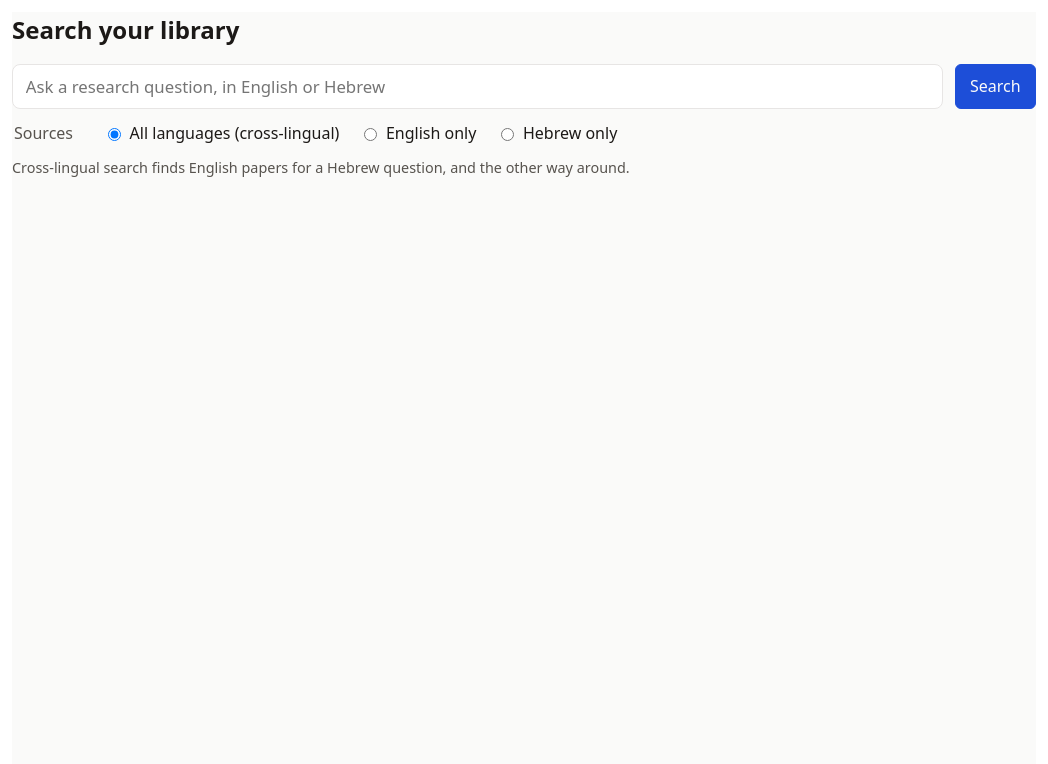
online results › adds an open-access paper to the library with its catalog metadata
Type "sleep" into the search field at [477, 86], box x1=12 y1=64 x2=943 y2=109
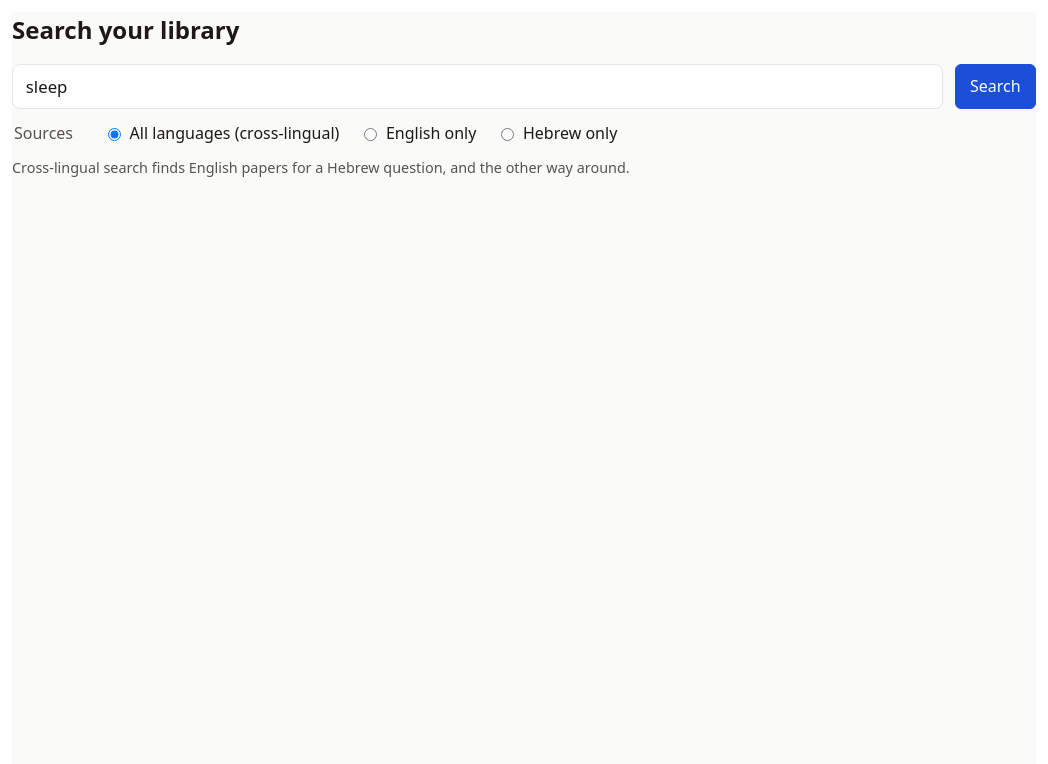
Click the button "Search" at [995, 86], box x1=955 y1=64 x2=1036 y2=109
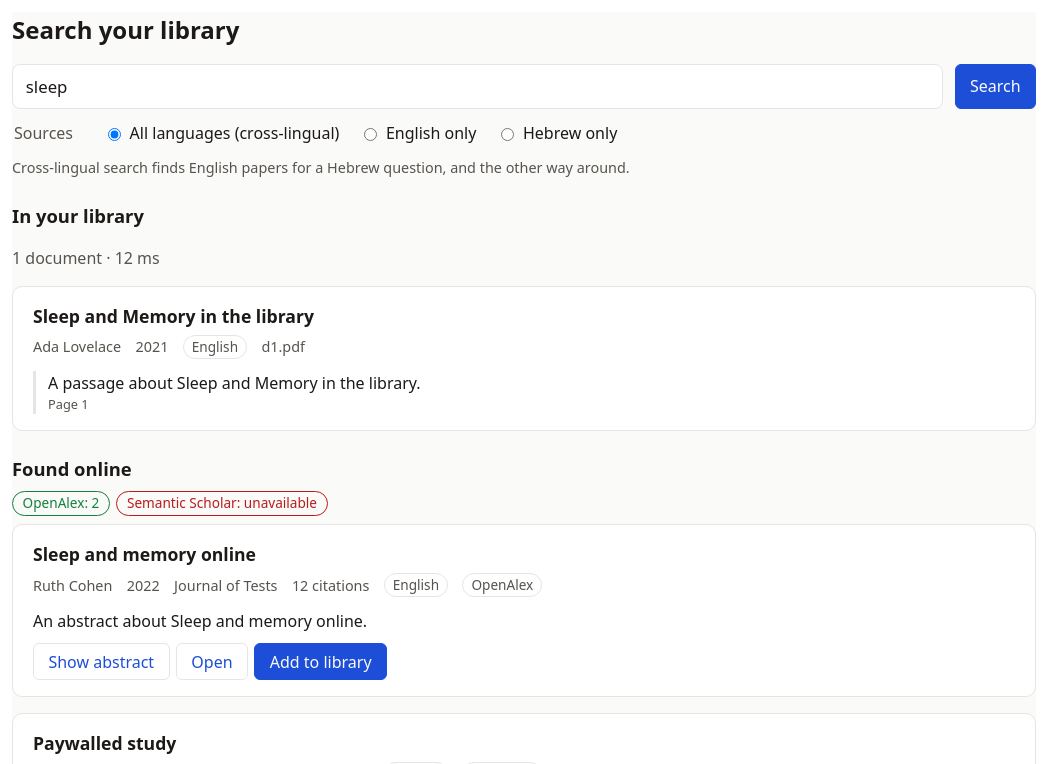
Click the button "Add to library" at [321, 662], box x1=254 y1=643 x2=387 y2=680
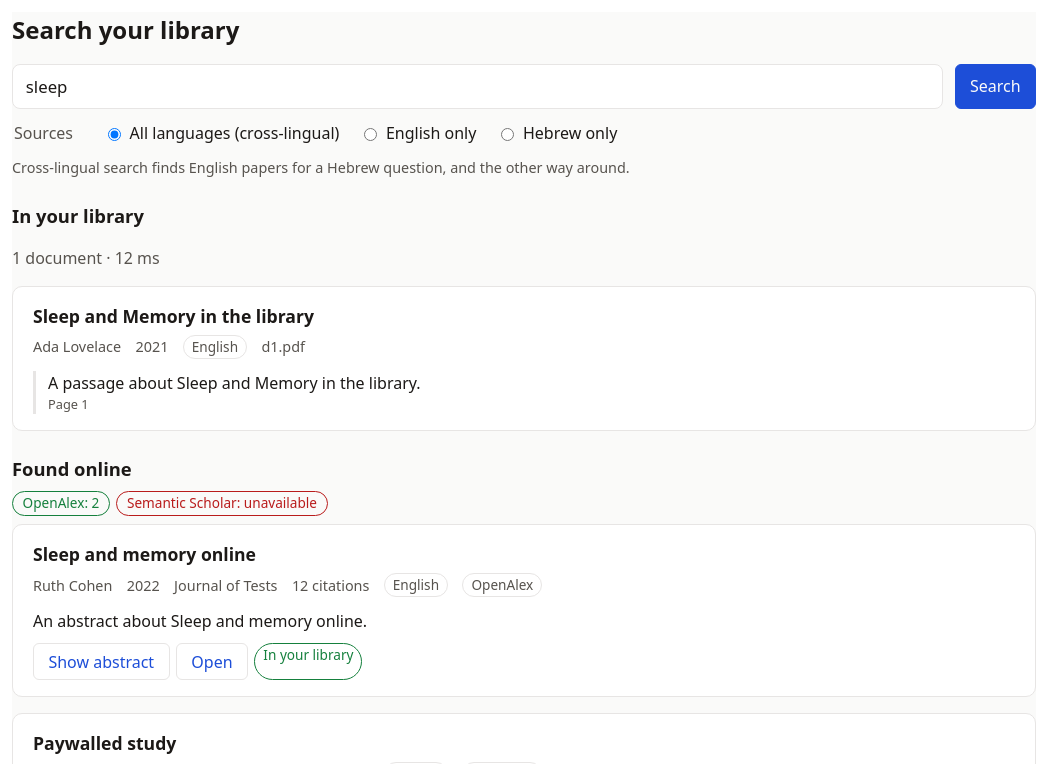
Result: the text "In your library" is shown at x1=254 y1=643 x2=362 y2=680
